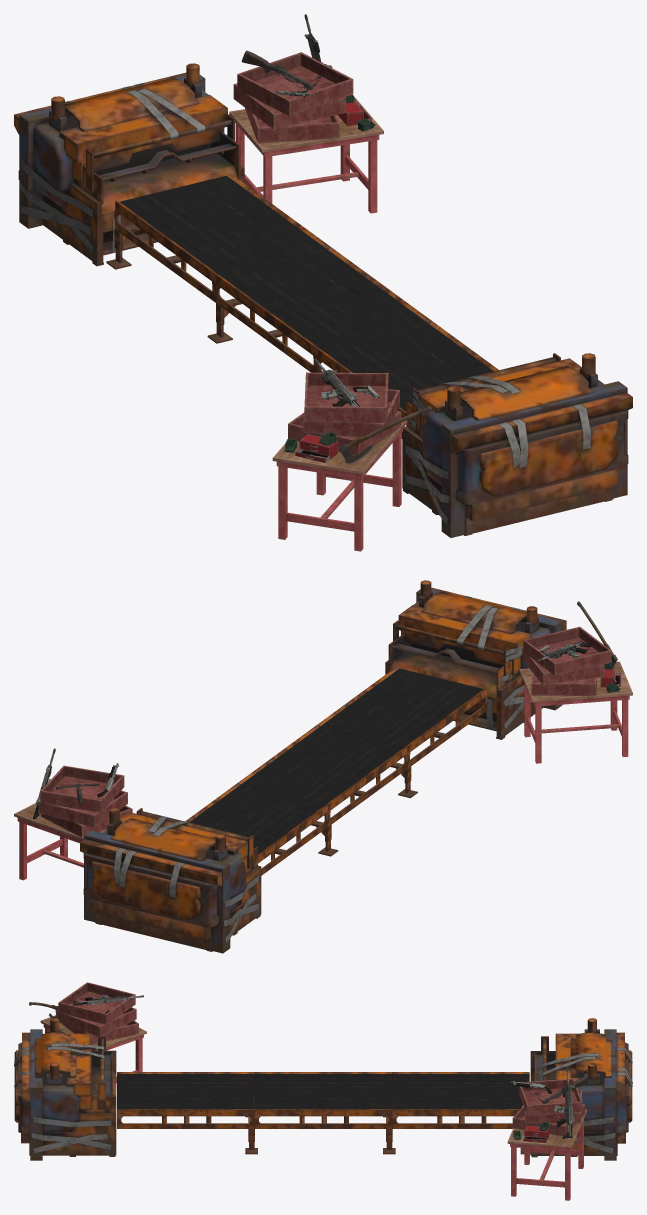
File: SM_WeaponFactoryModern_2af2e3.glb
The picture shows the model from 3 angles, top to bottom: view 1: azimuth 30°, elevation 25°; view 2: azimuth 150°, elevation 25°; view 3: azimuth 270°, elevation 25°; orthographic projection. The views are drawn at different scales.
Size of the model in its own units: 5.55 by 2.14 by 10.13.
4 materials, 4 textured.
